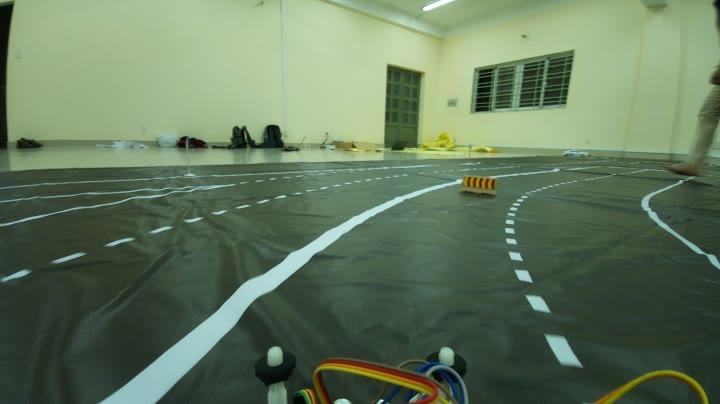roadblock: (458, 170, 503, 197)
